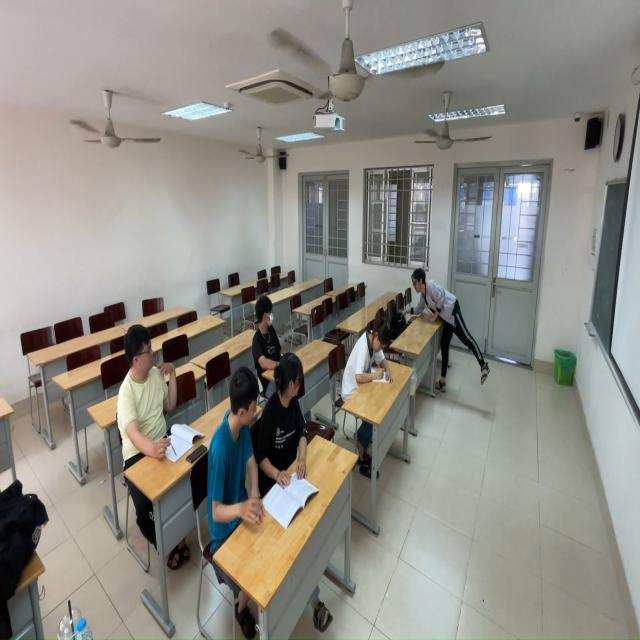read: (209, 354, 283, 554), (114, 315, 198, 472), (268, 355, 324, 489), (340, 316, 400, 403), (248, 299, 301, 374)
